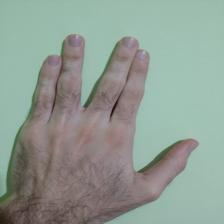five: (24, 28, 198, 206)
